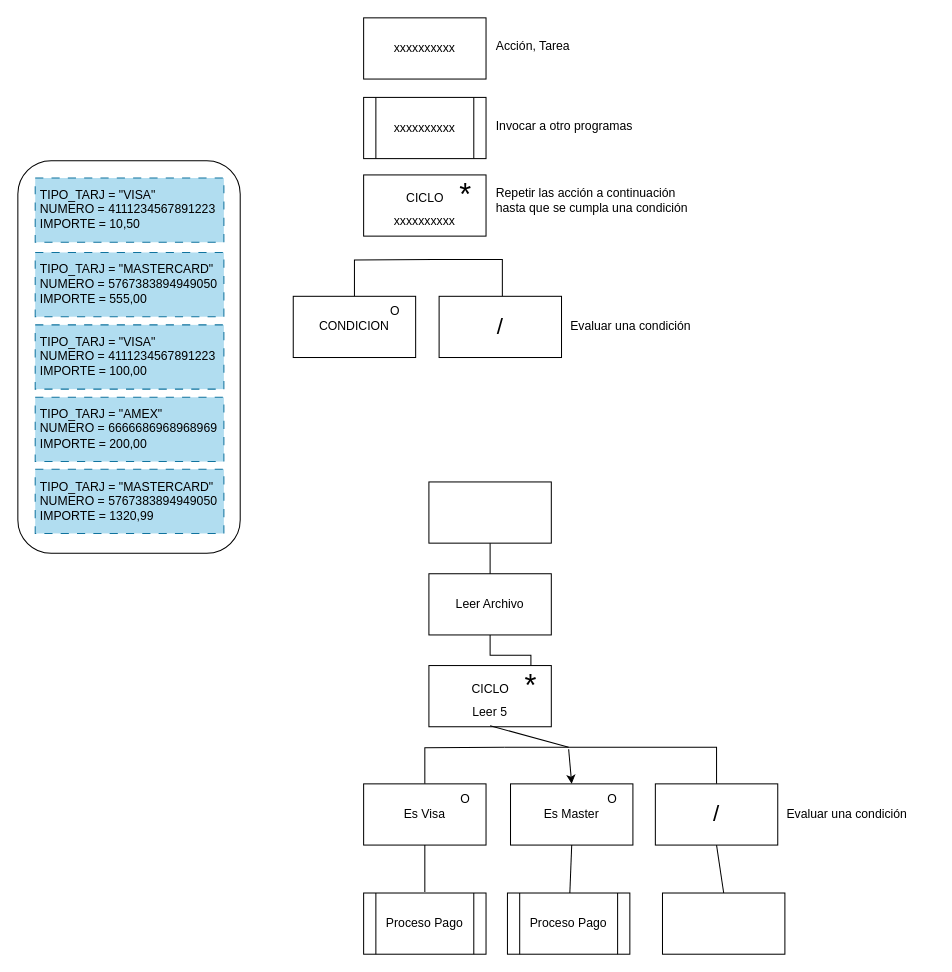
This 952x972 diagram has some shape labels left out. Each missing label, with the centre of its shape:
"Programa" goes at point (489, 512).
"Tarjeta Invalida" goes at point (723, 923).
